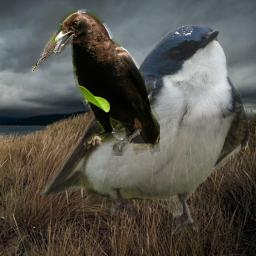Crow: (51, 9, 160, 156)
Cuckoo: (32, 31, 67, 72)
Swallow: (40, 24, 251, 235)
